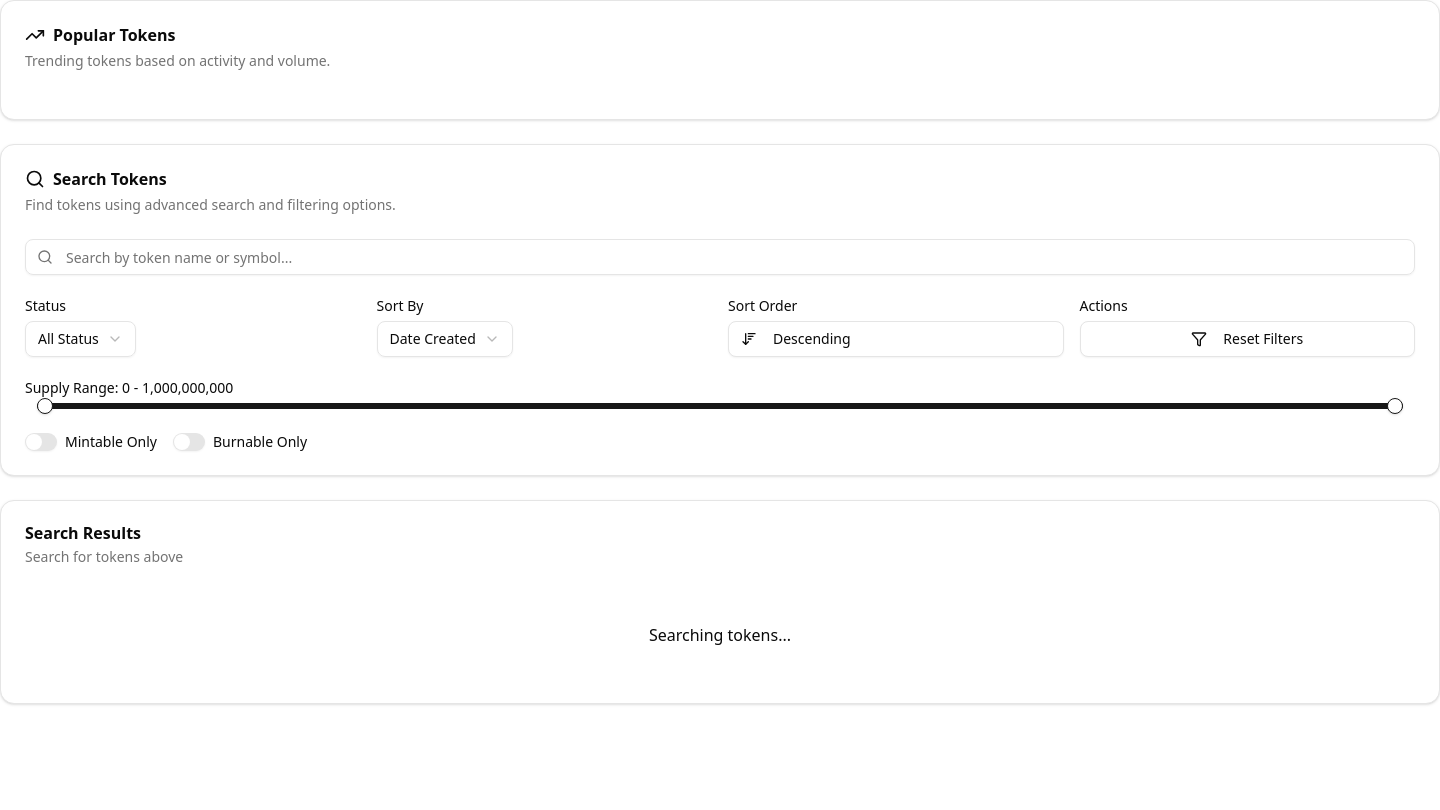
Test case: TokenSearch Component › should reset filters
// Set some filters first
Type "TEST" into the field with placeholder "Search by token name or symbol..." at {"x": 720, "y": 257}, box [25, 239, 1415, 275]
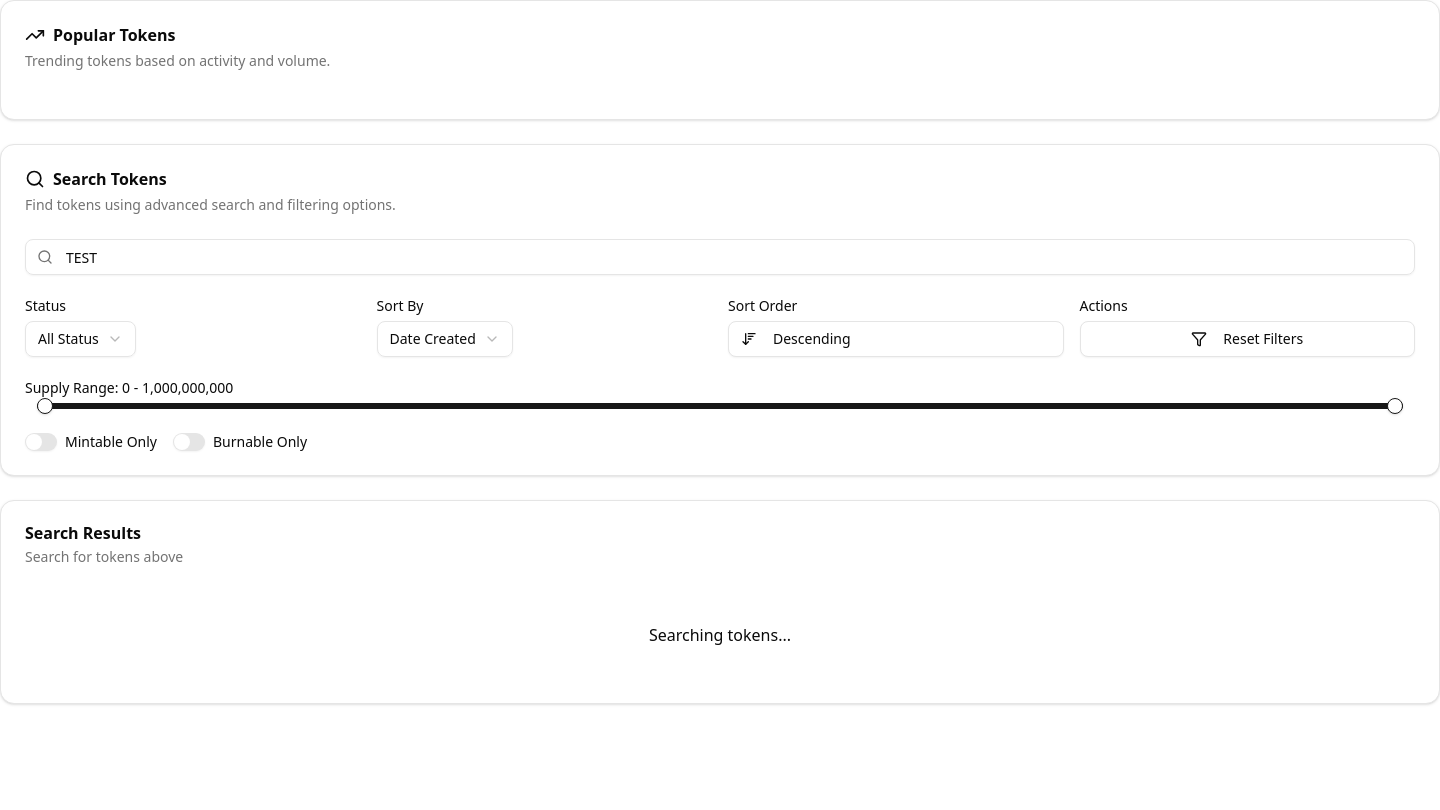
// Reset filters
Click the button "Reset Filters" at {"x": 1247, "y": 339}, box [1080, 321, 1415, 357]
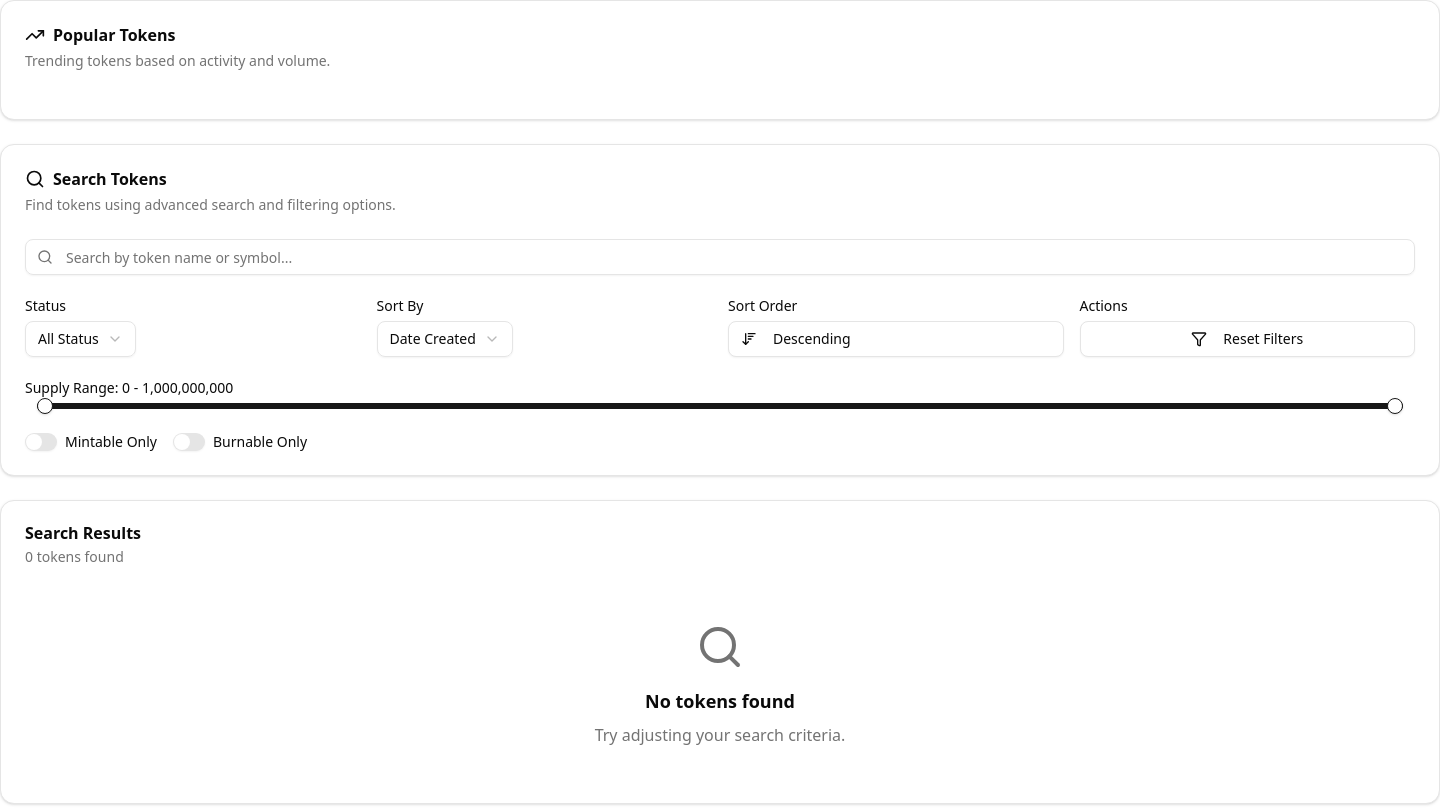
Result: the field with placeholder "Search by token name or symbol..." is empty at [25, 239, 1415, 275]
